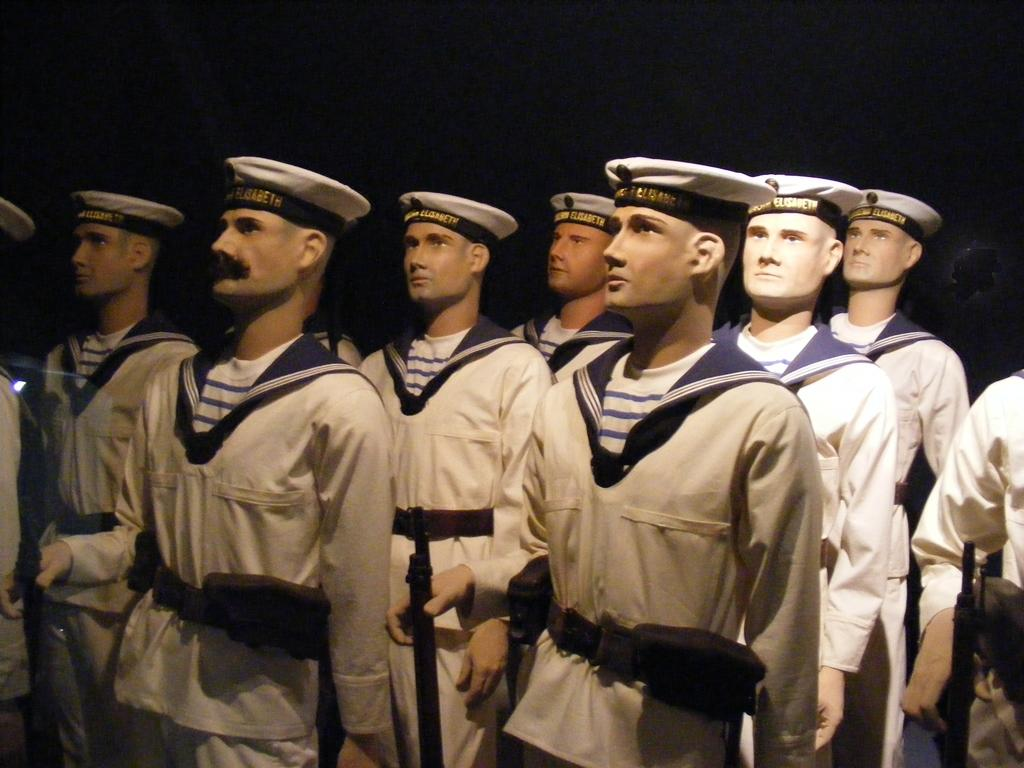Sem Máscara: (600, 208, 683, 306), (211, 208, 288, 296), (740, 218, 822, 297), (838, 219, 909, 287), (403, 223, 462, 302), (72, 222, 128, 295), (547, 224, 604, 292)
